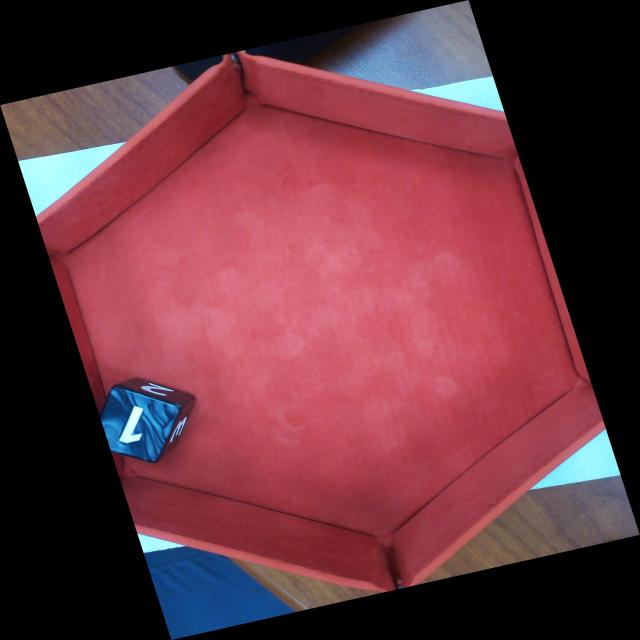dice: (102, 392, 179, 462)
